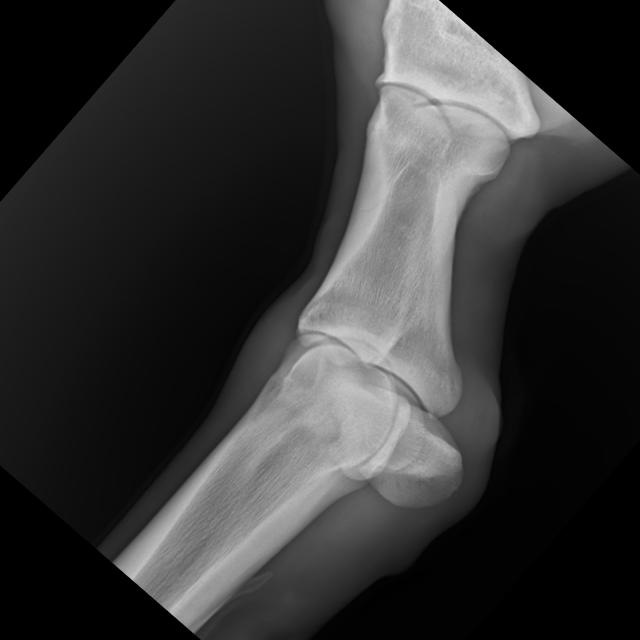joint-ht8A: (145, 177, 588, 616)
